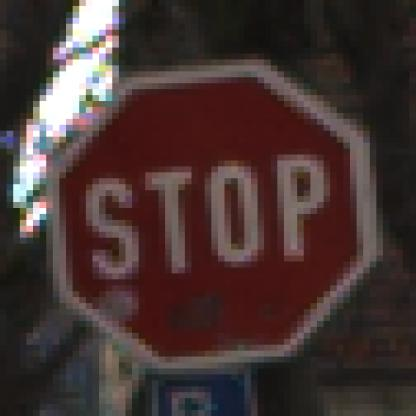stop: (39, 65, 384, 371)
